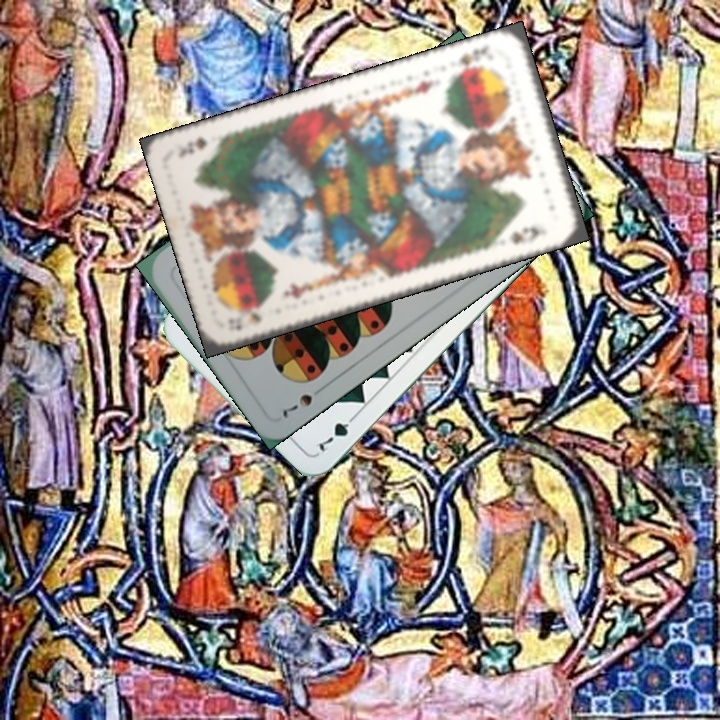G7: (315, 409, 361, 455)
S7: (278, 389, 315, 421)
SK: (449, 41, 492, 78), (224, 308, 264, 334)
